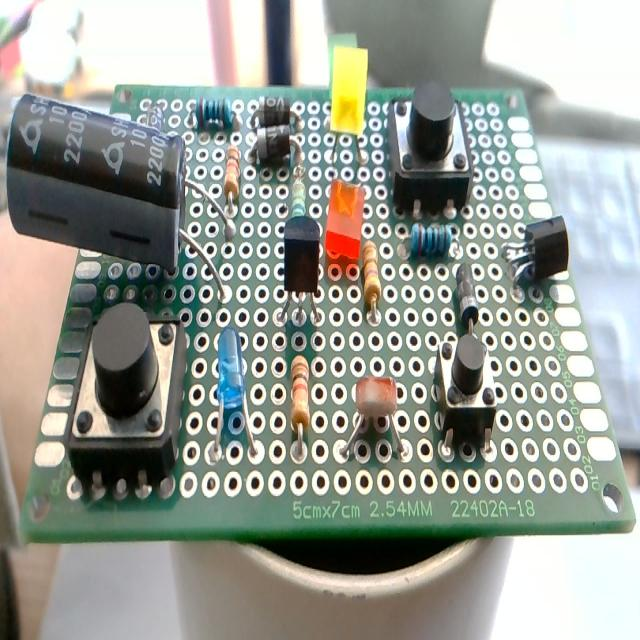Electrolytic capacitor: (2, 91, 225, 302)
cds: (335, 361, 413, 472)
diode: (243, 121, 307, 168), (455, 255, 479, 338), (243, 96, 304, 127)
led: (211, 322, 259, 465), (328, 41, 372, 166), (324, 167, 366, 262)
resistor: (285, 342, 311, 470), (401, 220, 466, 259), (184, 92, 244, 131), (362, 235, 380, 328), (220, 139, 242, 215), (290, 170, 305, 222)
switch: (62, 299, 188, 503), (382, 74, 481, 223), (428, 330, 496, 460)
transistor: (274, 212, 328, 332), (500, 211, 569, 295)
